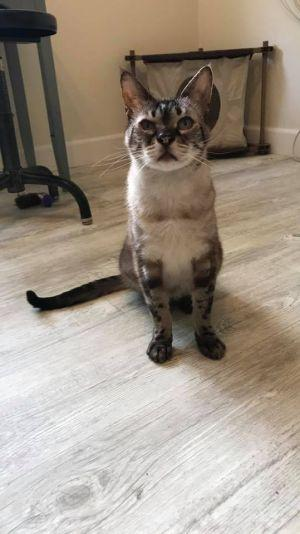bengal: (108, 58, 232, 181)
